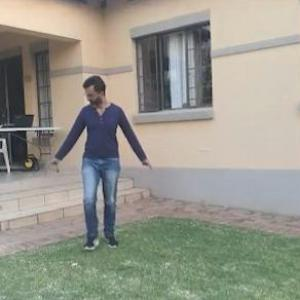land: (42, 67, 161, 262)
